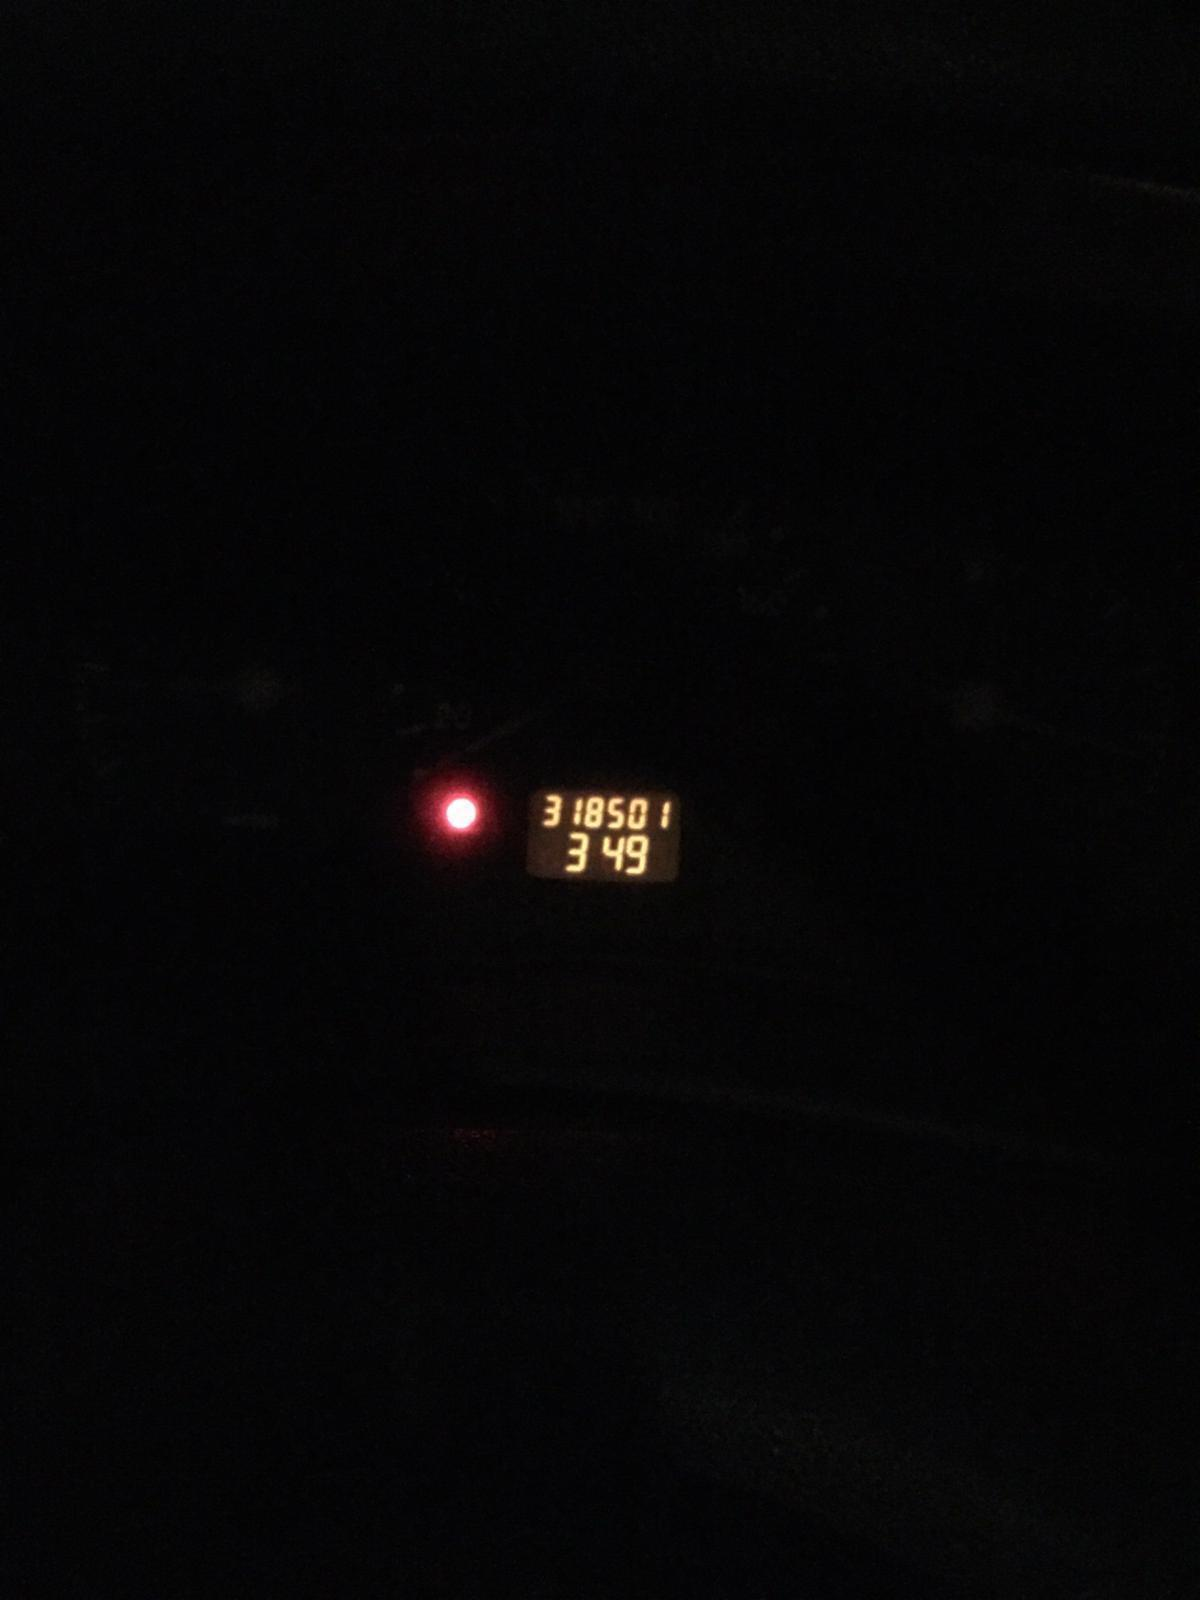0: (626, 797, 648, 829)
1: (659, 799, 672, 829), (572, 796, 584, 824)
3: (563, 831, 589, 872), (541, 792, 562, 826)
4: (600, 835, 625, 871)
5: (606, 797, 625, 829)
8: (584, 796, 604, 829)
9: (624, 834, 650, 874)
odometer: (521, 784, 684, 887)
